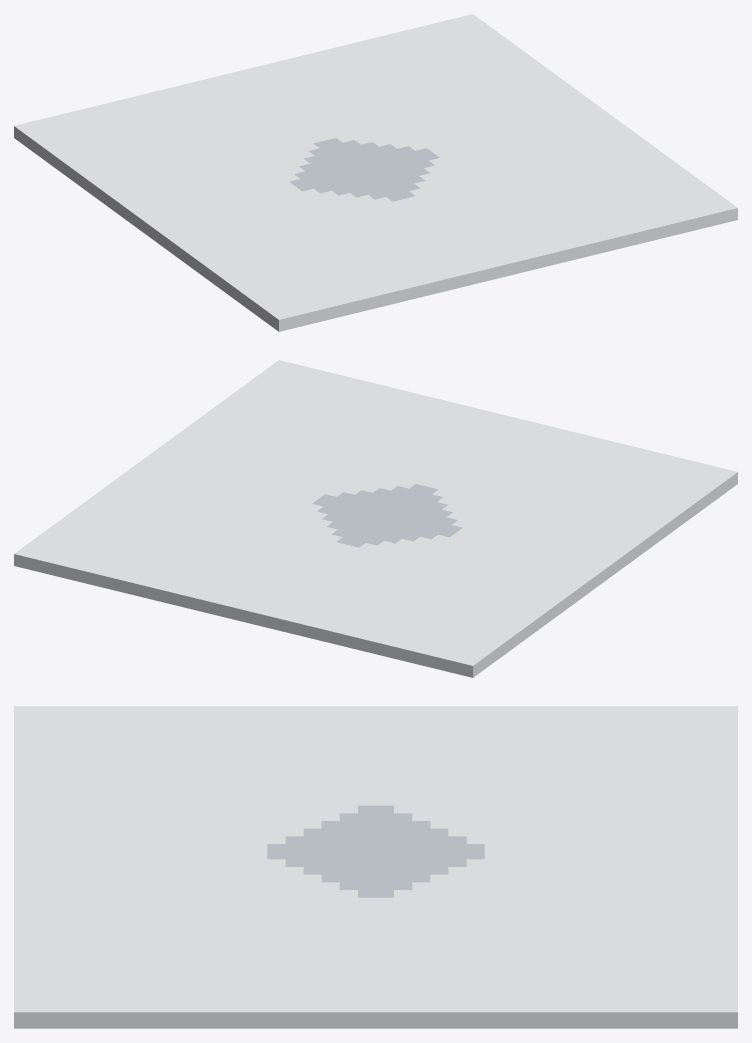
File: floor-cafeteria.obj
The picture shows the model from 3 angles, top to bottom: view 1: azimuth 30°, elevation 25°; view 2: azimuth 150°, elevation 25°; view 3: azimuth 270°, elevation 25°; orthographic projection. The views are drawn at different scales.
Size of the model in its own units: 4 by 0.1 by 4.
Materials: 1 (1 with a texture image).
